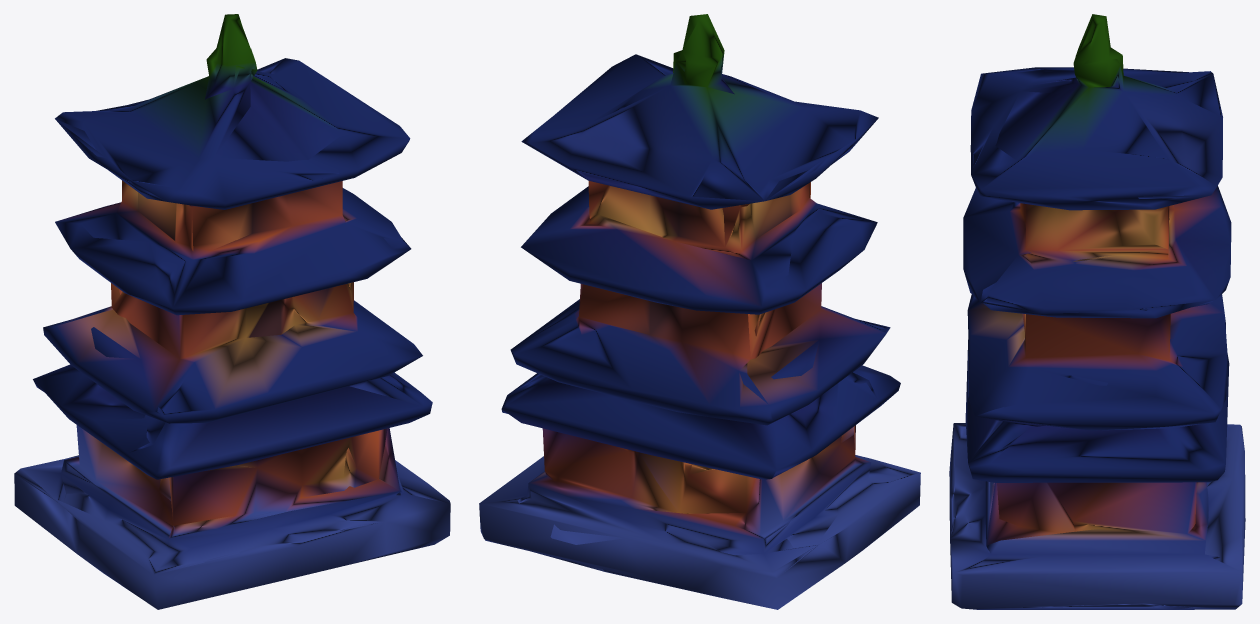
The model's file is gen3d-pagoda-lod1.glb.
The picture shows the model from 3 angles, left to right: view 1: azimuth 30°, elevation 25°; view 2: azimuth 150°, elevation 25°; view 3: azimuth 270°, elevation 25°; orthographic projection. The views are drawn at different scales.
Parts seen in each view (by area): view 1: part_0; view 2: part_0; view 3: part_0.
Boxes of the visible parts, bbox=[...] form: part_0: bbox=[14, 14, 450, 609]; part_0: bbox=[479, 14, 920, 609]; part_0: bbox=[949, 14, 1245, 609].
Bounding box in the file's own units: 0.6172 × 0.9975 × 0.514.
